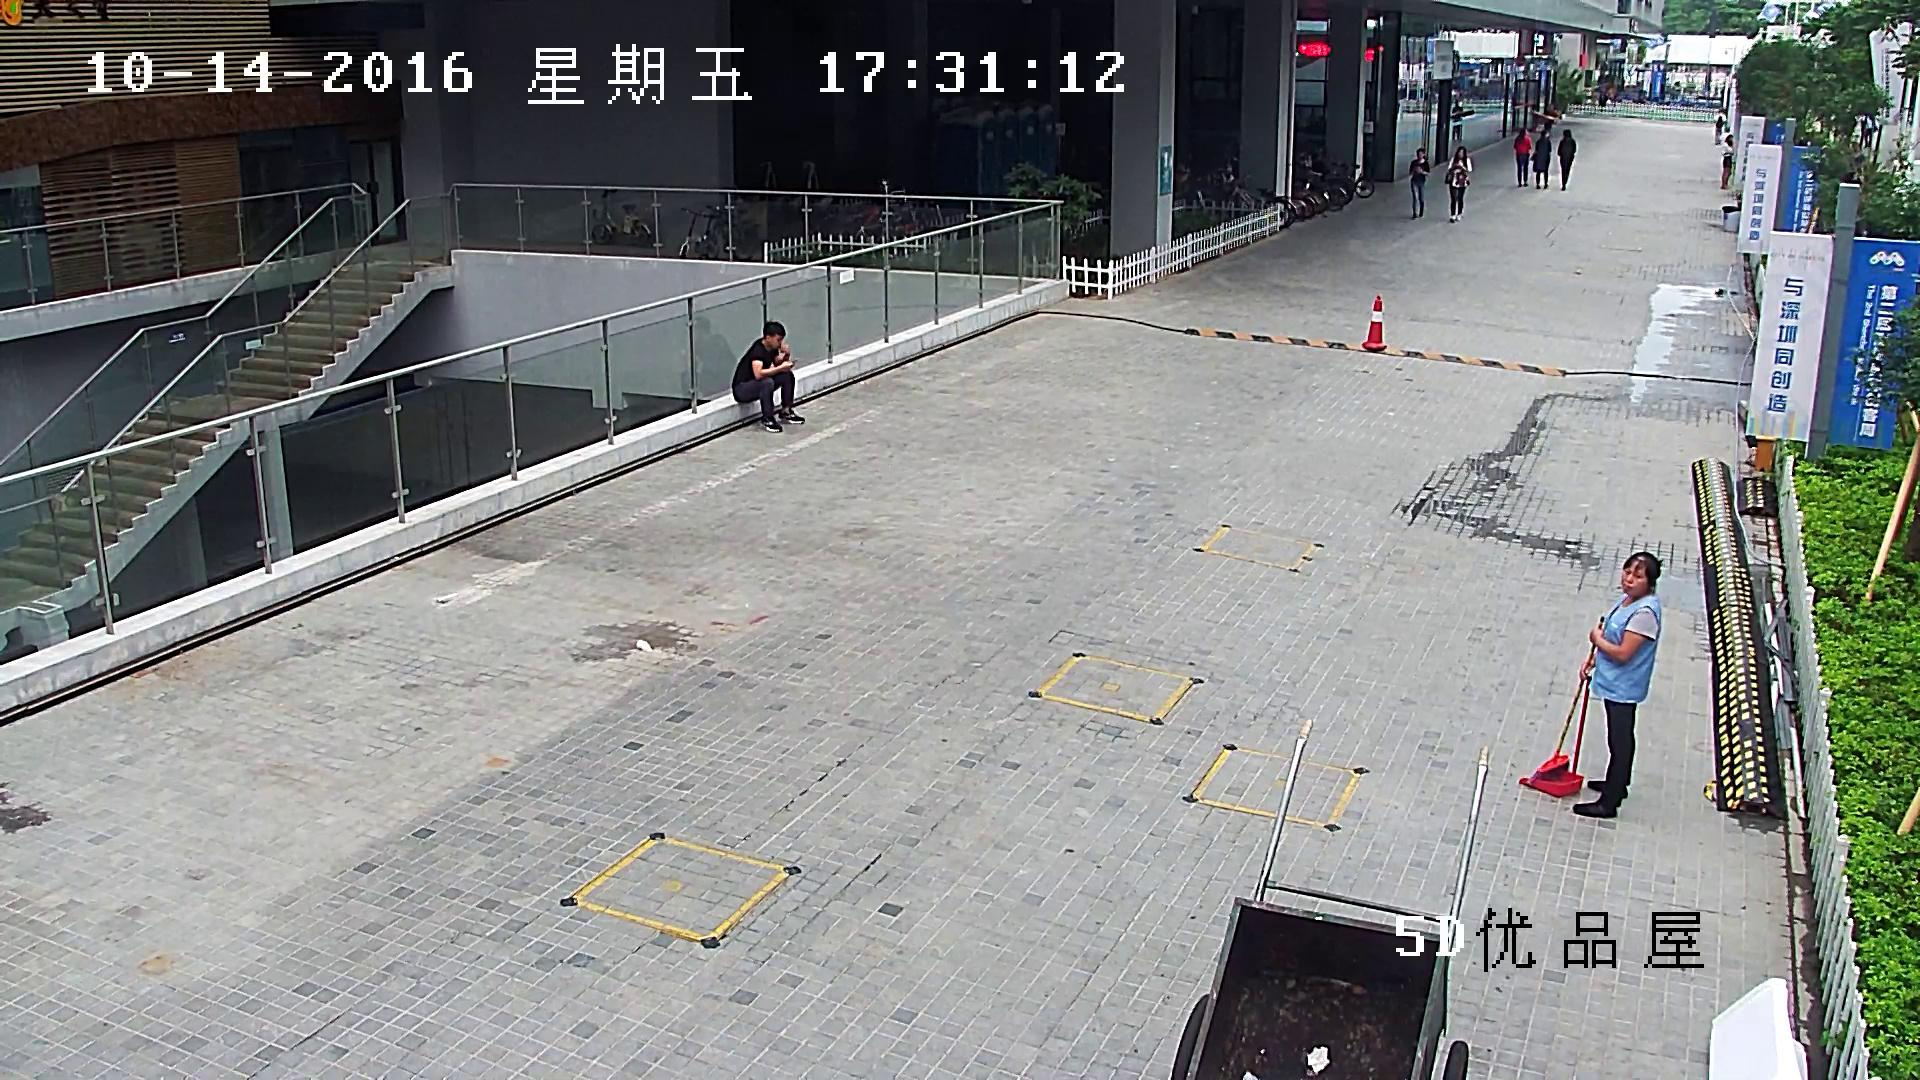person: (1523, 552, 1665, 820), (1572, 553, 1663, 818), (730, 319, 805, 432), (1444, 145, 1472, 223), (1407, 148, 1433, 220), (1530, 130, 1552, 188), (1557, 129, 1577, 191), (1512, 126, 1532, 187), (1720, 134, 1734, 189), (1449, 98, 1463, 142), (1713, 114, 1725, 144)
